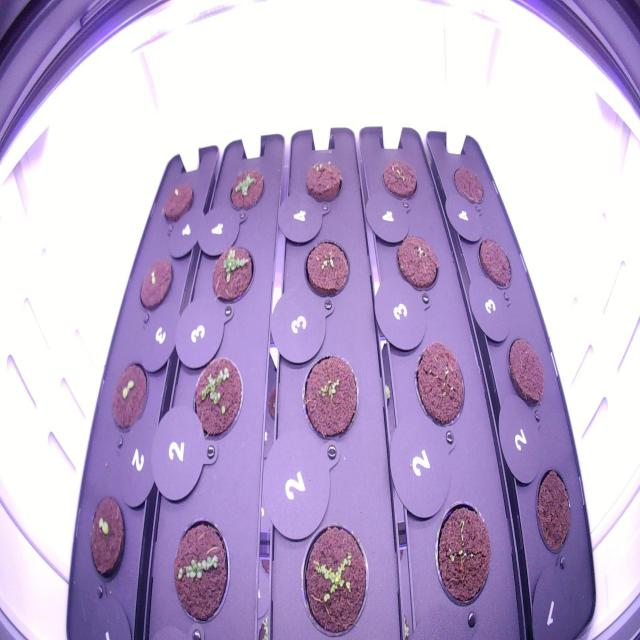germination: (296, 511, 372, 639), (168, 511, 234, 629), (298, 345, 362, 446), (188, 347, 246, 443), (86, 490, 128, 587), (108, 352, 152, 438), (390, 228, 443, 299), (298, 233, 352, 302), (205, 240, 258, 308), (300, 147, 347, 211), (132, 252, 176, 316), (375, 151, 422, 208), (225, 162, 267, 220)
pod: (429, 489, 496, 616), (409, 332, 469, 433), (528, 457, 576, 565), (503, 328, 549, 412), (474, 227, 516, 296), (448, 158, 488, 210), (159, 175, 198, 228)
